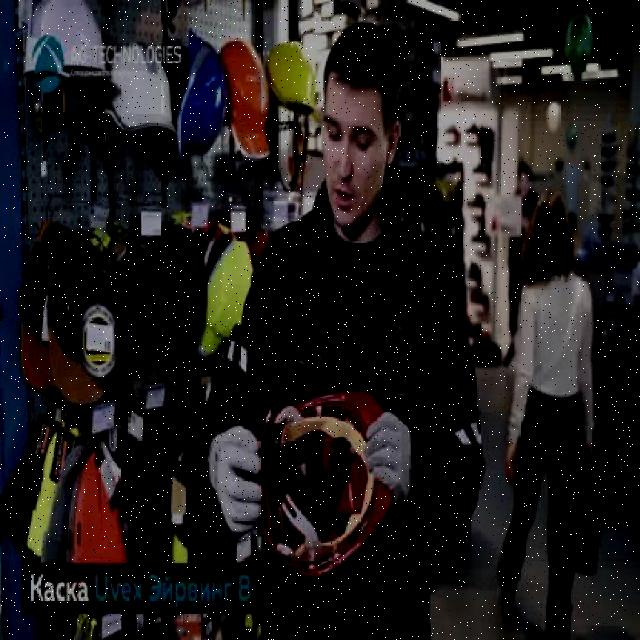Gloves: (208, 427, 264, 538), (364, 412, 414, 520)
Helmet: (256, 387, 394, 582), (174, 28, 229, 174), (218, 36, 274, 166), (101, 44, 177, 138), (23, 0, 109, 74), (264, 38, 324, 122)
